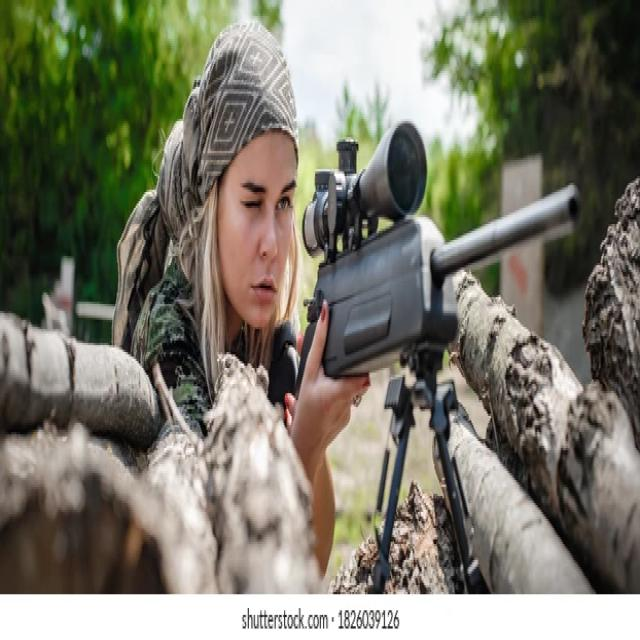soldier: (136, 24, 585, 493)
